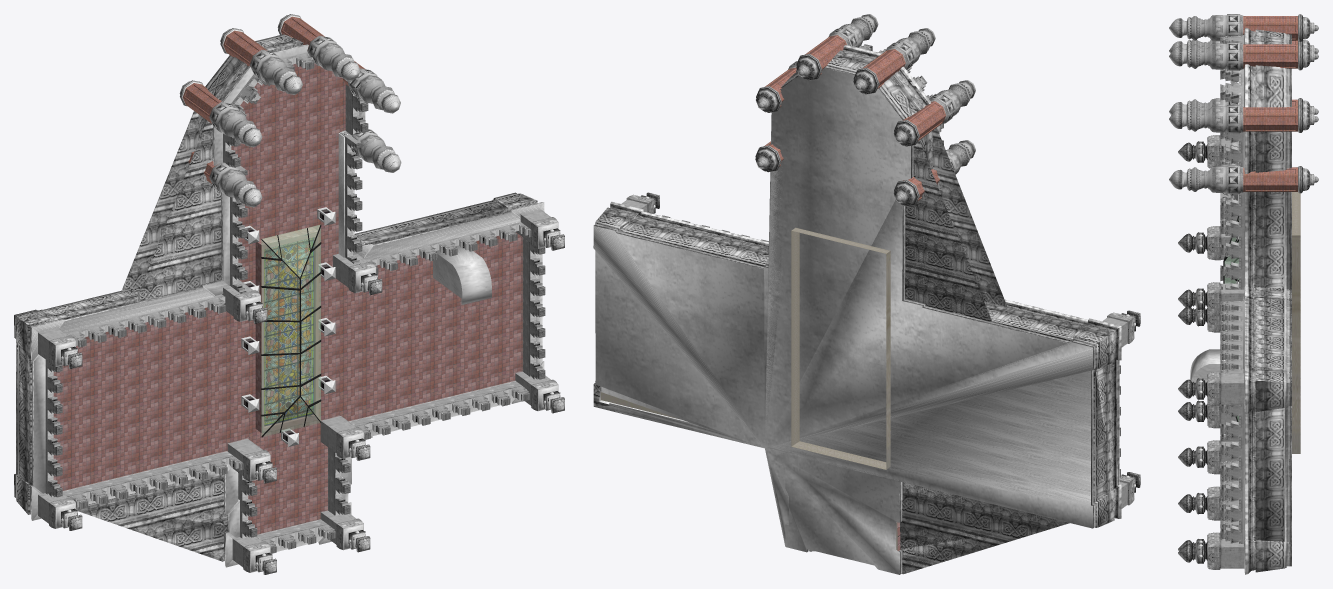
File: castelo_mourisco_piso5.fbx
3 views of the same model, side by side, from view 1: azimuth 30°, elevation 25°; view 2: azimuth 150°, elevation 25°; view 3: azimuth 270°, elevation 25° (orthographic).
Parts seen in each view (by area): view 1: piso5, acabamento_piso5, amurada_piso5, telhado_vitral, vitral_teto_piso4, detalhe_torre_oeste, saida_terraco; view 2: acabamento_piso5, detalhe_torre_oeste, vitral_teto_piso4, amurada_piso5; view 3: acabamento_piso5, amurada_piso5, detalhe_torre_oeste, vitral_teto_piso4, saida_terraco, telhado_vitral.
Part boxes in pixels (x1,y1,x2,y2): piso5: (53,63,522,534); acabamento_piso5: (14,34,544,567); amurada_piso5: (38,52,564,574); telhado_vitral: (261,224,321,437); vitral_teto_piso4: (255,227,318,432); detalhe_torre_oeste: (179,14,401,207); saida_terraco: (433,245,491,304); acabamento_piso5: (593,45,1121,574); detalhe_torre_oeste: (755,14,975,206); vitral_teto_piso4: (791,227,890,469); amurada_piso5: (621,44,1140,508); acabamento_piso5: (1243,28,1291,574); amurada_piso5: (1178,35,1244,569); detalhe_torre_oeste: (1169,14,1318,193); vitral_teto_piso4: (1292,192,1300,453); saida_terraco: (1190,349,1225,396); telhado_vitral: (1223,215,1238,421).
Bounding box in the file's own units: 3021 × 2878 × 758.
17 materials, 15 textured.
